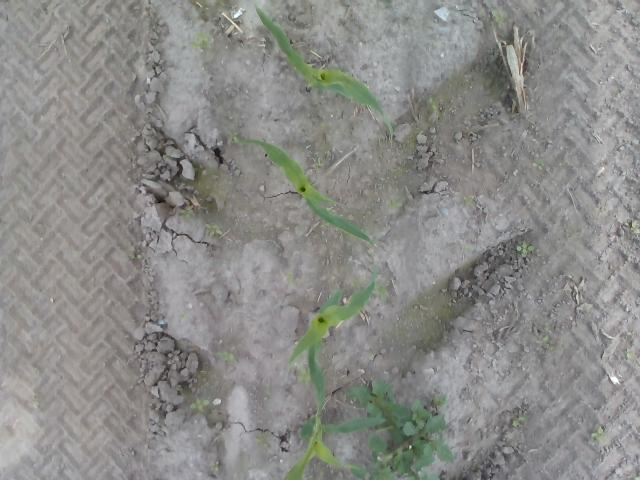Maize: (251, 4, 396, 140), (236, 138, 385, 250), (282, 340, 387, 480), (285, 256, 380, 373)
Weeds: (347, 378, 457, 480), (536, 334, 556, 352), (191, 31, 210, 49), (516, 241, 536, 258), (590, 424, 608, 442), (190, 397, 210, 412), (623, 218, 640, 234), (296, 366, 310, 382), (179, 208, 193, 222), (512, 415, 528, 427), (217, 351, 234, 361), (376, 283, 388, 297), (226, 130, 238, 143), (428, 96, 438, 111), (206, 222, 218, 234), (534, 158, 545, 170), (210, 461, 220, 474), (388, 200, 401, 209), (314, 159, 324, 170), (128, 254, 144, 260), (463, 196, 472, 206), (626, 350, 636, 359), (494, 15, 504, 24), (256, 436, 266, 444), (176, 384, 184, 391)
